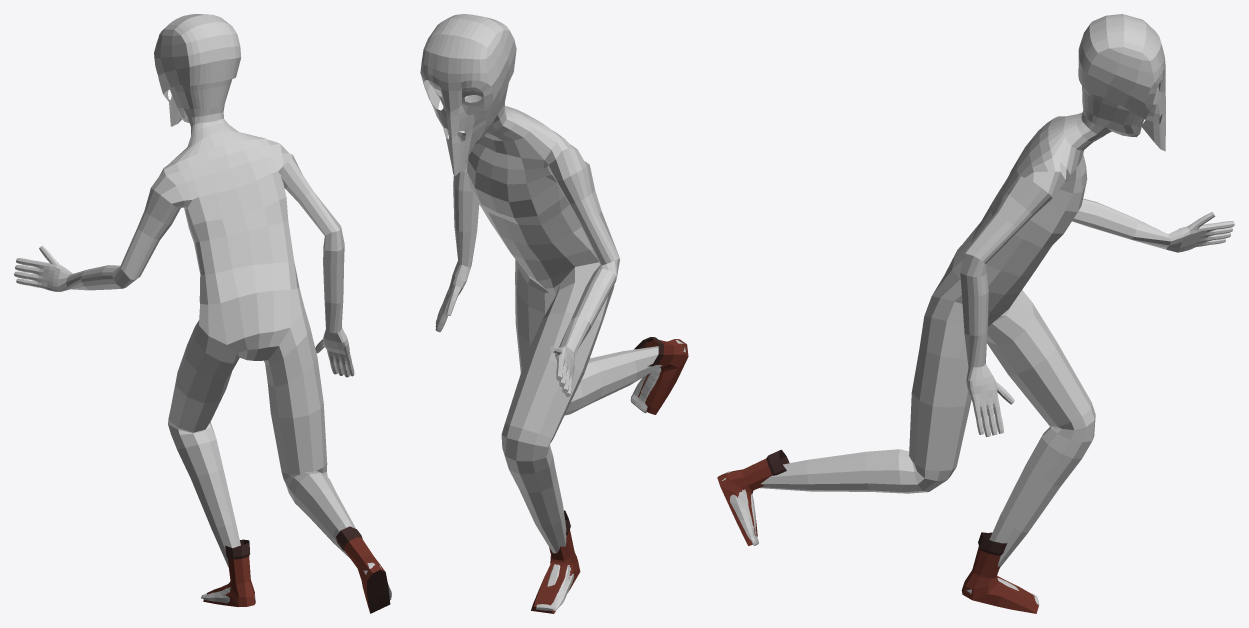
The model's file is saltoadelante_000096.obj.
3 views of the same model, side by side, from view 1: azimuth 30°, elevation 25°; view 2: azimuth 150°, elevation 25°; view 3: azimuth 270°, elevation 25° (orthographic). The views are drawn at different scales.
Parts seen in each view (by area): view 1: Plane.002_Plane.001, Plane.003, Plane.004; view 2: Plane.002_Plane.001, Plane.003, Plane.004; view 3: Plane.002_Plane.001, Plane.004, Plane.003.
Part boxes in pixels (x1,y1,x2,y2): Plane.002_Plane.001: (14, 14, 391, 603); Plane.003: (336, 526, 390, 613); Plane.004: (203, 539, 255, 607); Plane.002_Plane.001: (420, 14, 685, 610); Plane.003: (634, 337, 688, 414); Plane.004: (531, 510, 580, 613); Plane.002_Plane.001: (721, 14, 1234, 607); Plane.004: (961, 532, 1038, 613); Plane.003: (717, 449, 789, 545).
Size of the model in its own units: 2.75 by 6.34 by 4.94.
